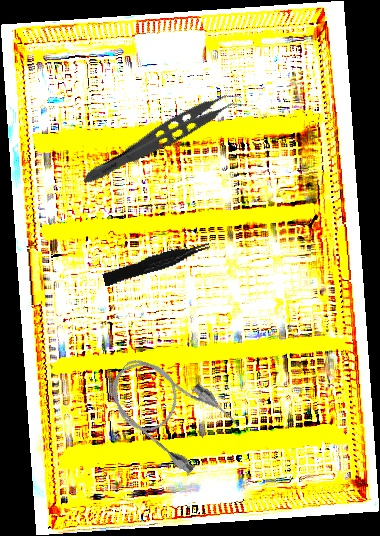Cannula: (95, 339, 245, 481)
Tissue Forceps: (79, 81, 248, 199), (101, 240, 213, 287)
